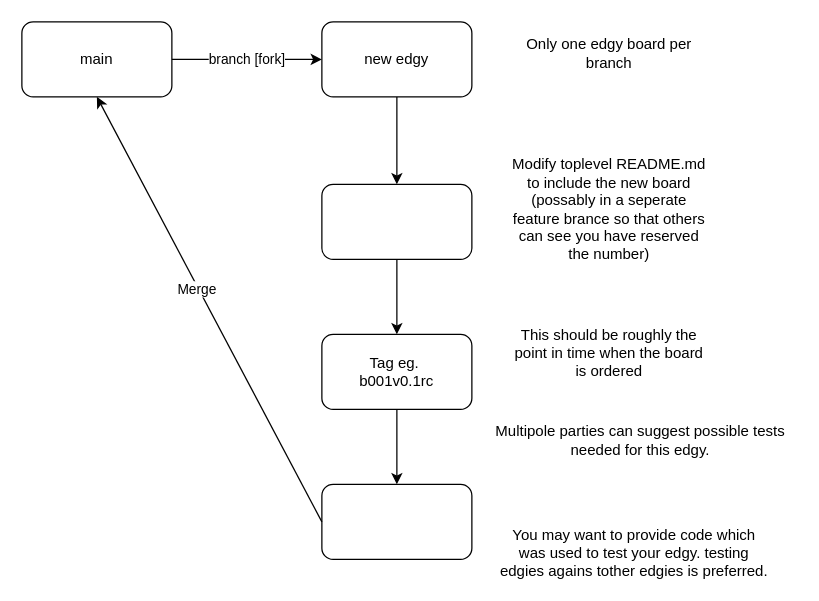
Image size: 819x601. Some labels were removed from this diagram. Each missing label, with the centre of its shape:
Add tests details and results to local README.md: point 396,521
PR with name beginning with "bXXX": point 396,221
